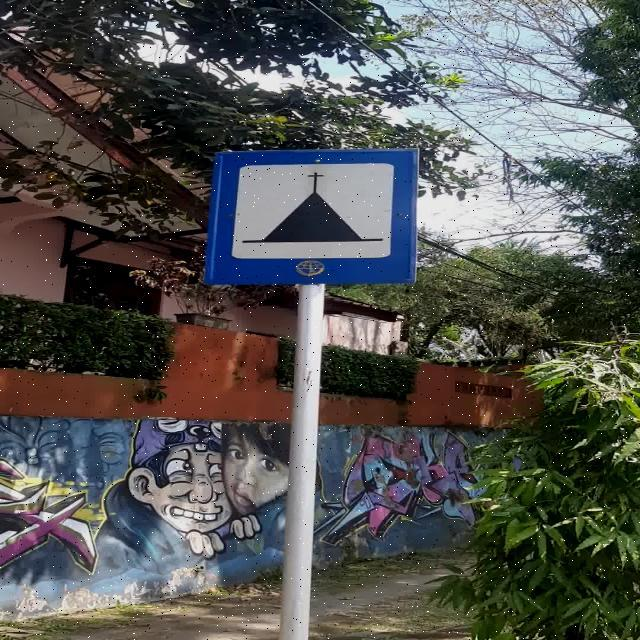Gereja: (203, 149, 418, 284)
